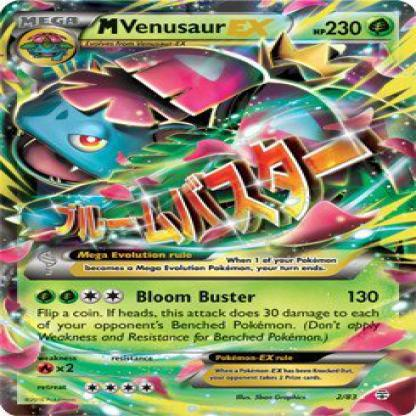Venusaur: (1, 62, 245, 191)
